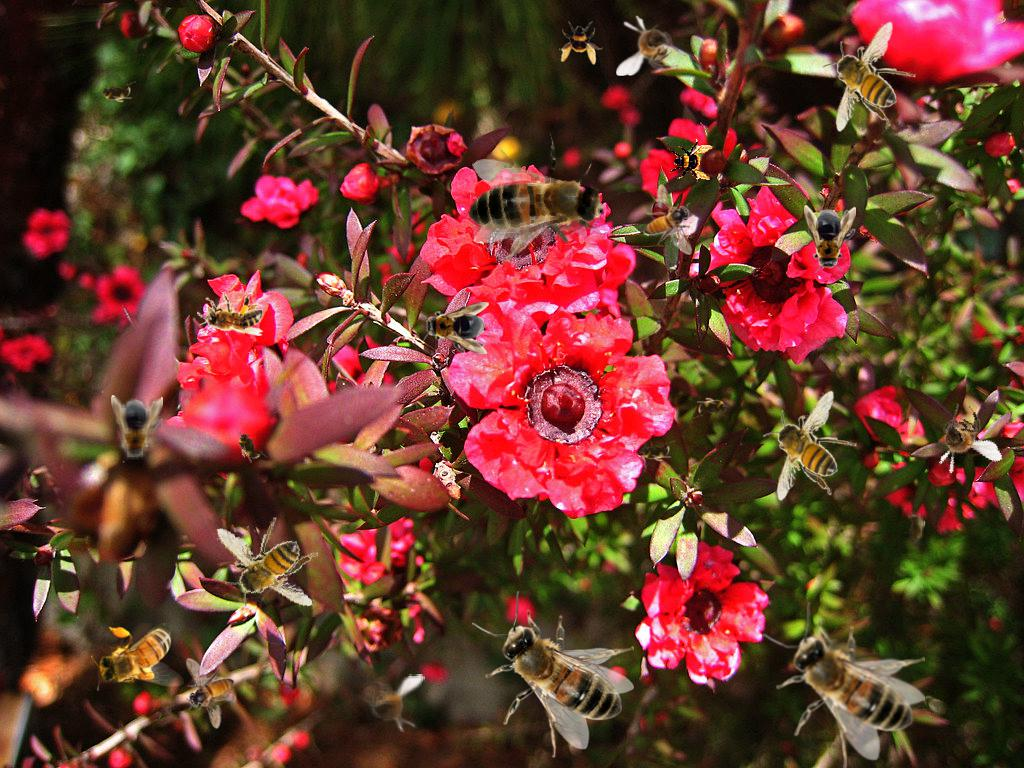Bee: (428, 85, 659, 317), (472, 591, 634, 758), (763, 602, 925, 768), (200, 504, 331, 622), (763, 390, 857, 501), (822, 21, 916, 132), (919, 394, 1004, 484), (91, 623, 184, 691), (616, 15, 686, 76), (355, 674, 425, 735), (185, 658, 235, 729), (643, 184, 693, 255), (804, 205, 856, 273), (421, 302, 489, 354), (111, 395, 163, 463), (196, 290, 264, 339), (559, 21, 603, 65), (669, 138, 713, 182), (229, 423, 269, 469), (635, 440, 675, 462), (904, 508, 926, 548), (96, 81, 136, 103), (693, 397, 733, 419)
